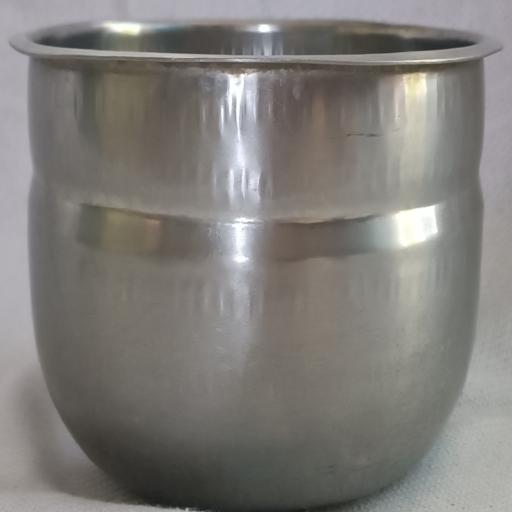vessel: (11, 20, 500, 510)
